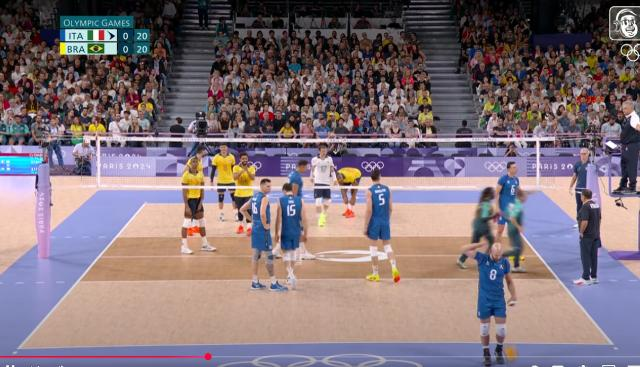Levantador: (494, 162, 522, 230), (234, 153, 254, 197)
Libero: (310, 146, 338, 228)
bola: (502, 344, 520, 364)
